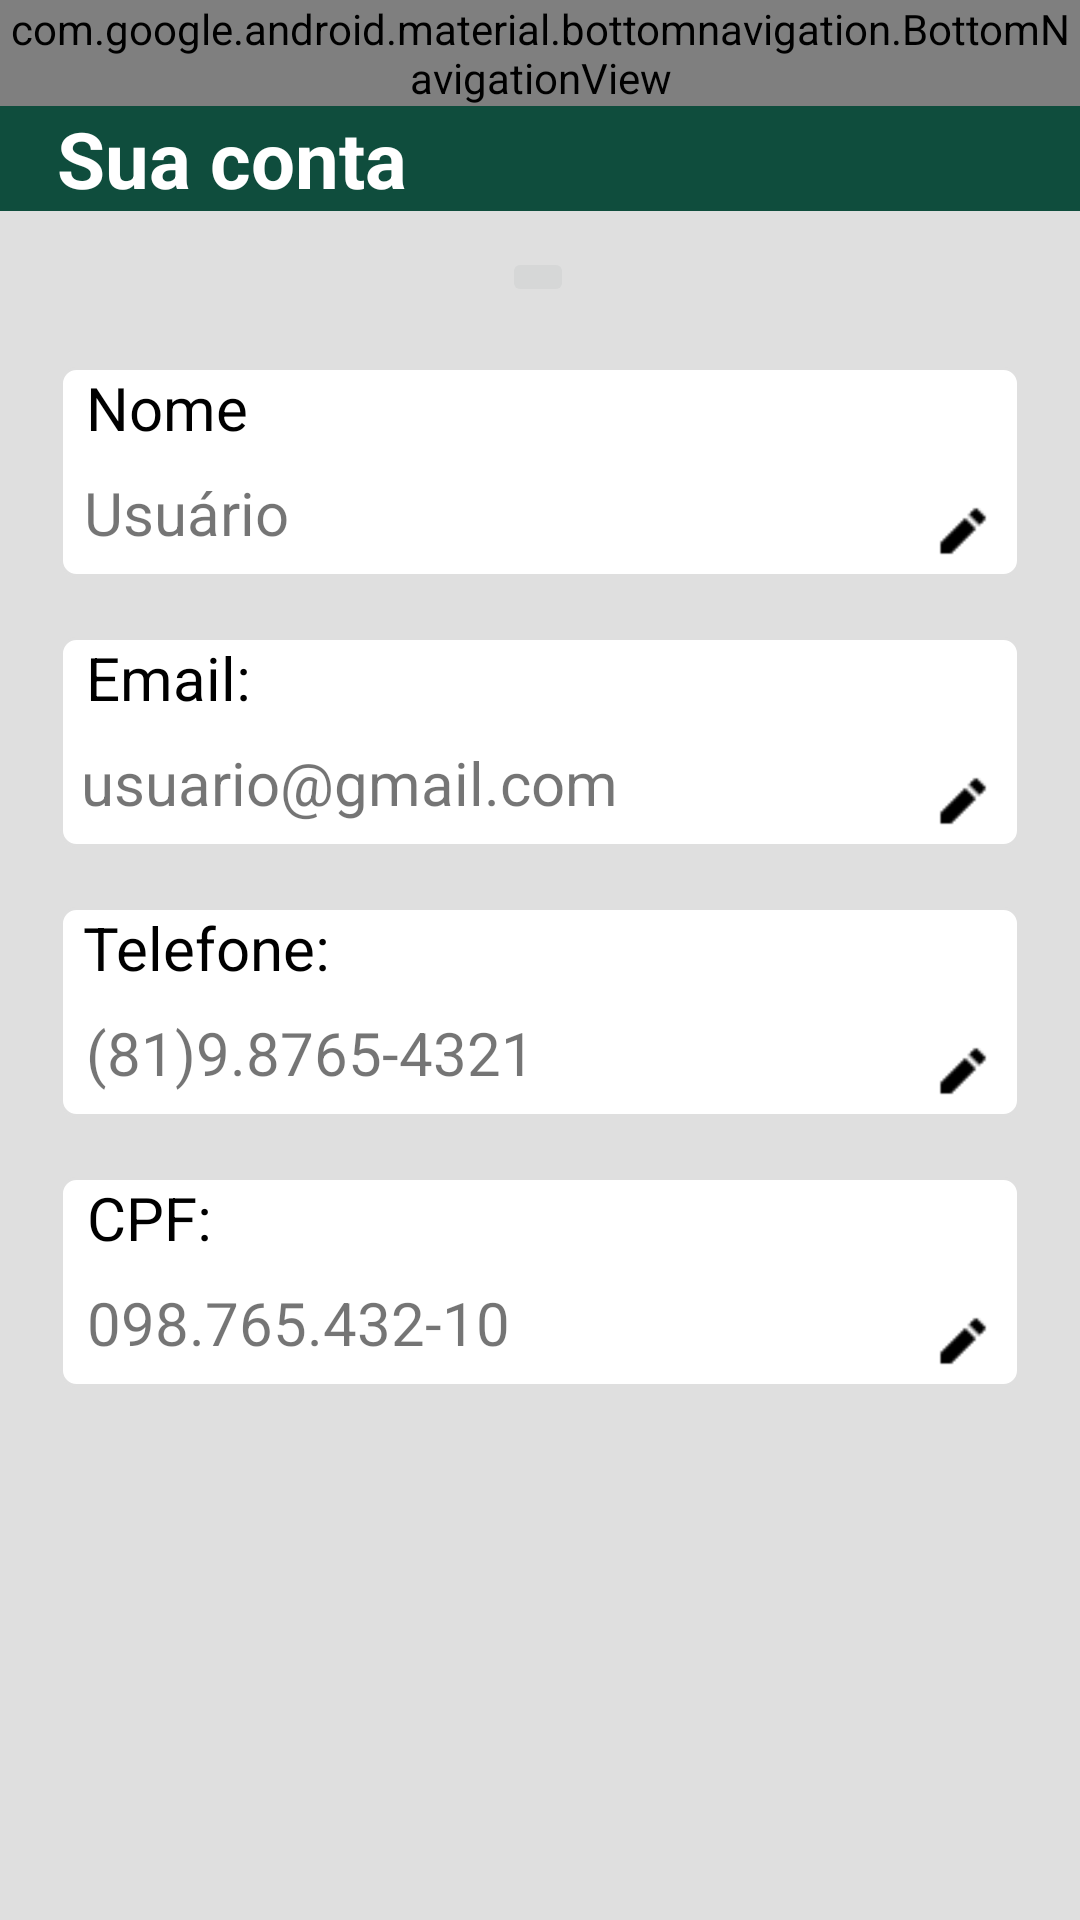

Icons on this 1080×1920 Android screen, each with its box as (x1, y1, x2, y2):
alterar: (939, 508, 986, 555), (939, 778, 986, 825), (939, 1048, 986, 1095), (939, 1318, 986, 1365)
